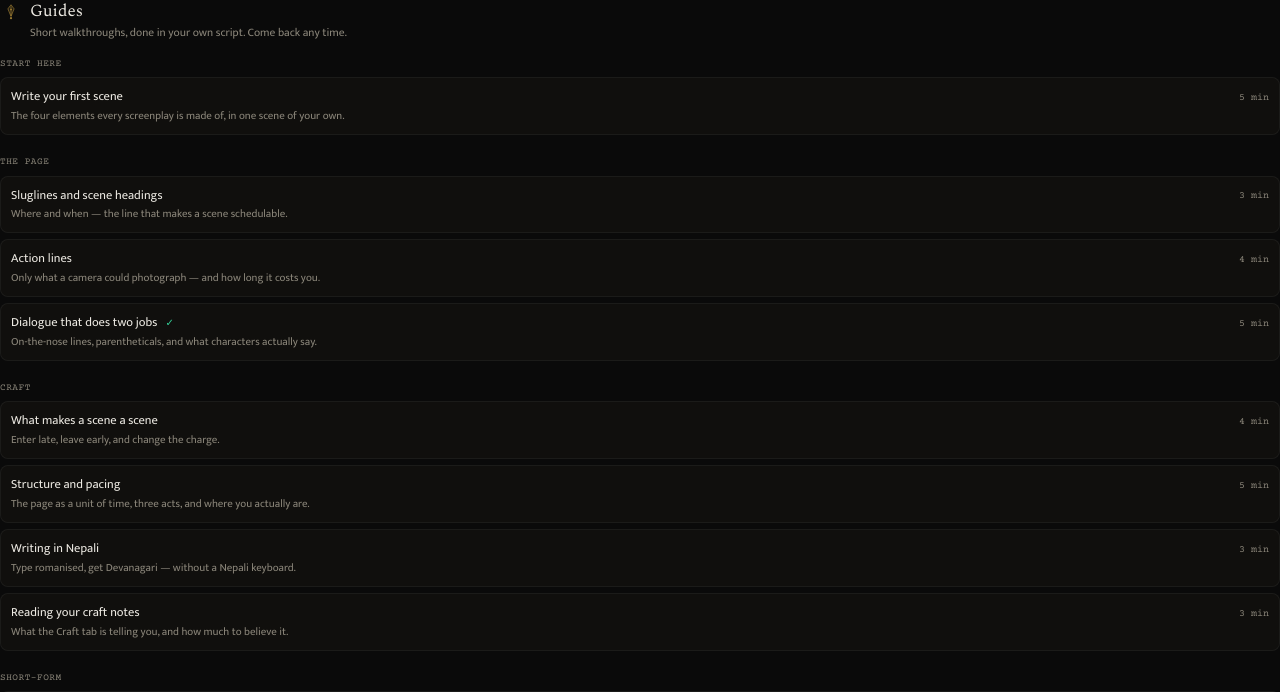
Test: the step completes when the writer actually writes the thing
Click the text "Write your first scene" at (67, 98), box [11, 88, 123, 107]
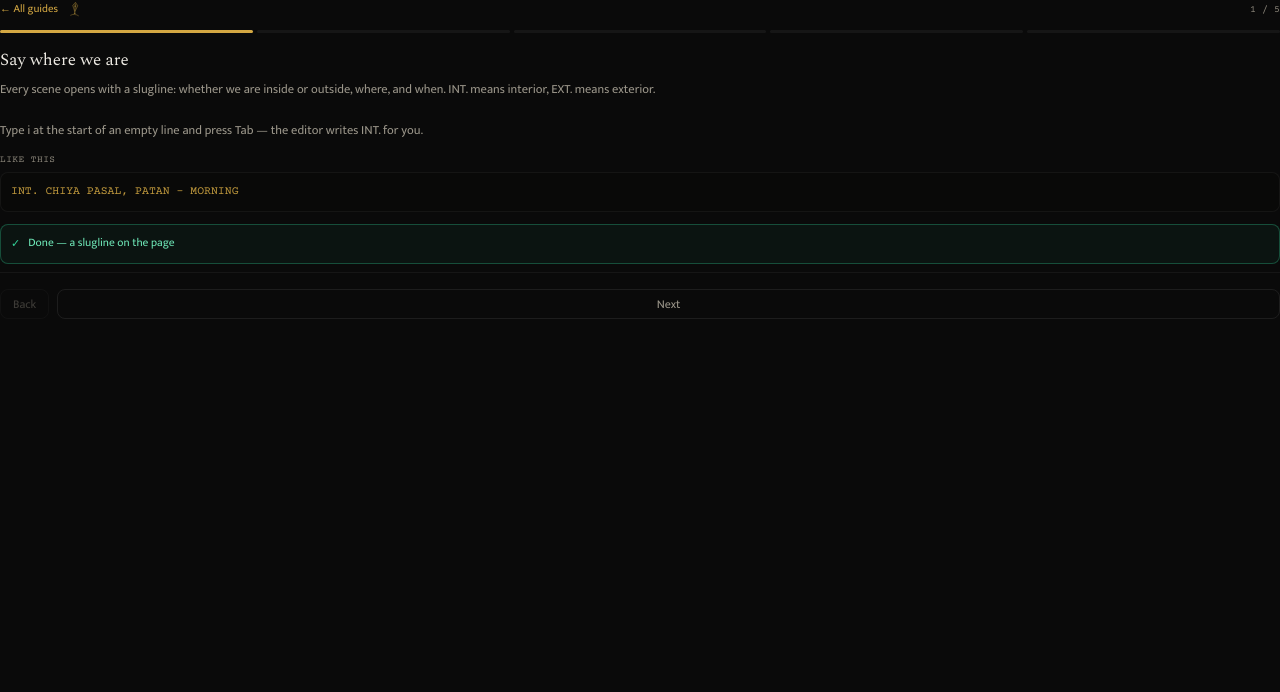
Result: the text "Done — a slugline on the page" is shown at [28, 235, 174, 251]
